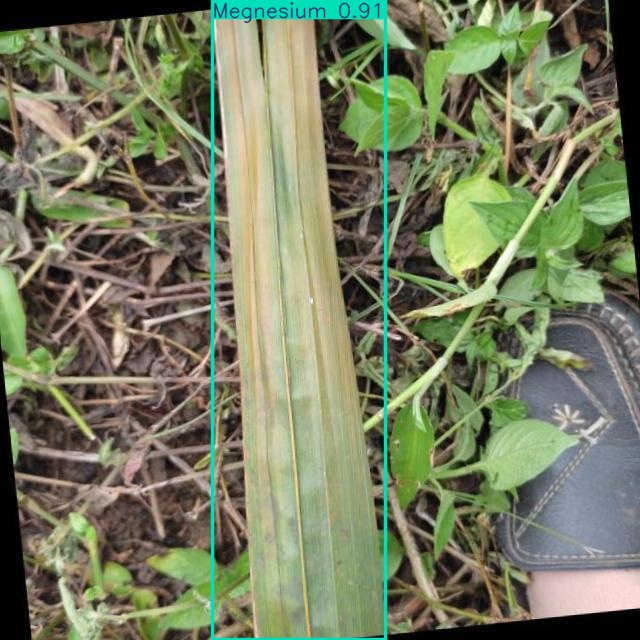Megnesium: (212, 0, 386, 640)
